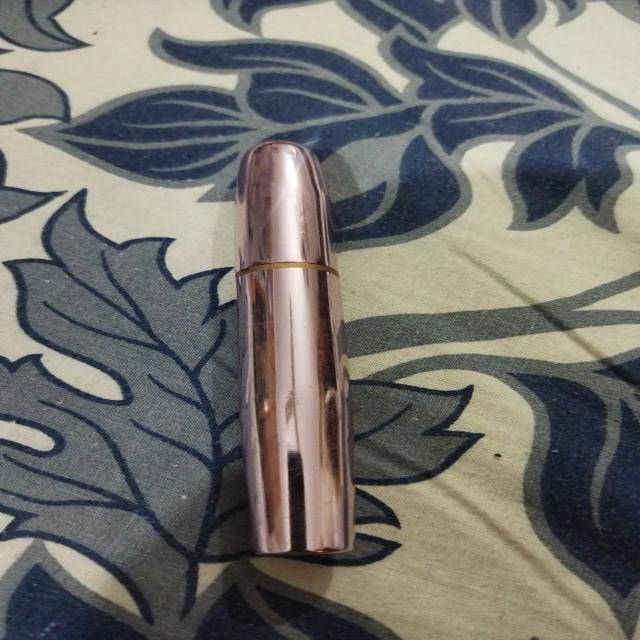mascara: (194, 117, 413, 585)
